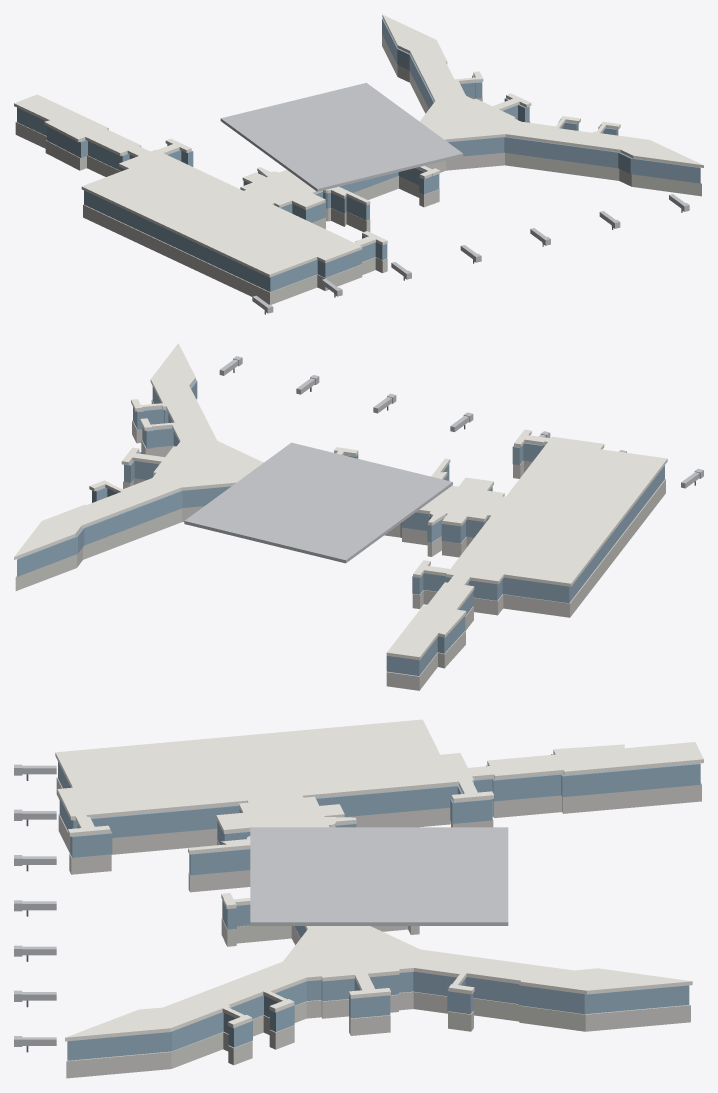
The model's file is euroairport-terminal.glb.
3 views of the same model, one above another, from view 1: azimuth 30°, elevation 25°; view 2: azimuth 150°, elevation 25°; view 3: azimuth 270°, elevation 25° (orthographic). The views are drawn at different scales.
Parts seen in each view (by area): view 1: building; view 2: building; view 3: building.
Boxes of the visible parts, bbox=[...] form: building: bbox=[14, 14, 703, 314]; building: bbox=[14, 343, 703, 690]; building: bbox=[14, 719, 703, 1078].
Bounding box in the file's own units: 361 × 24 × 330.
